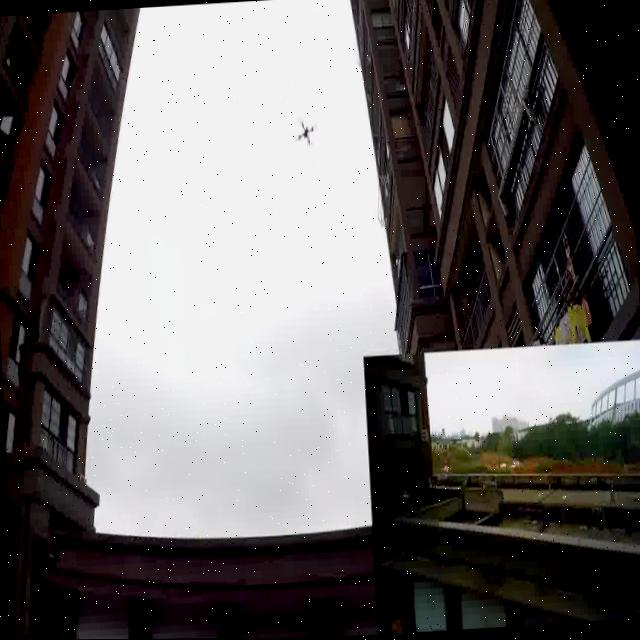drone: (293, 117, 318, 148)
